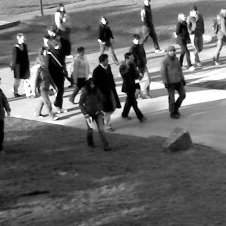person: (79, 78, 111, 152), (92, 54, 121, 132), (119, 53, 147, 123), (161, 45, 186, 119), (47, 38, 69, 113), (34, 55, 59, 120), (130, 34, 152, 99), (140, 1, 165, 54), (12, 32, 32, 98), (69, 45, 91, 103), (97, 16, 121, 66), (175, 13, 195, 71), (189, 6, 205, 67), (212, 8, 226, 66), (1, 77, 10, 149), (54, 3, 71, 39), (40, 33, 53, 56), (47, 25, 66, 39)
